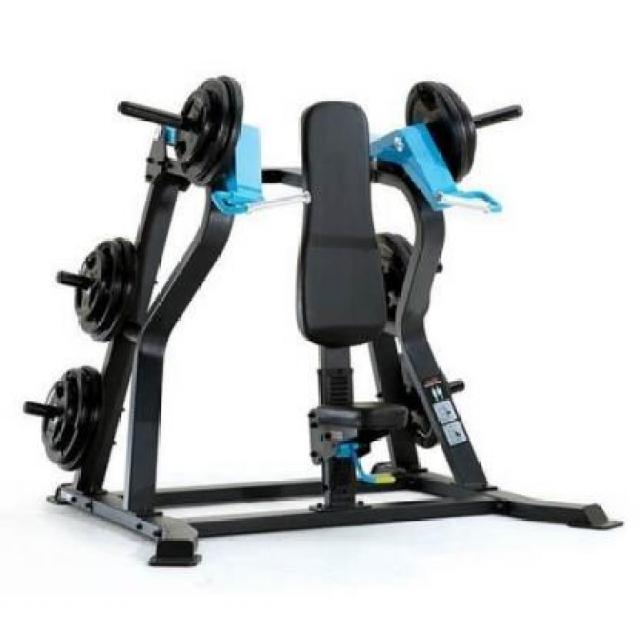shoulder press machine: (26, 76, 626, 570)
